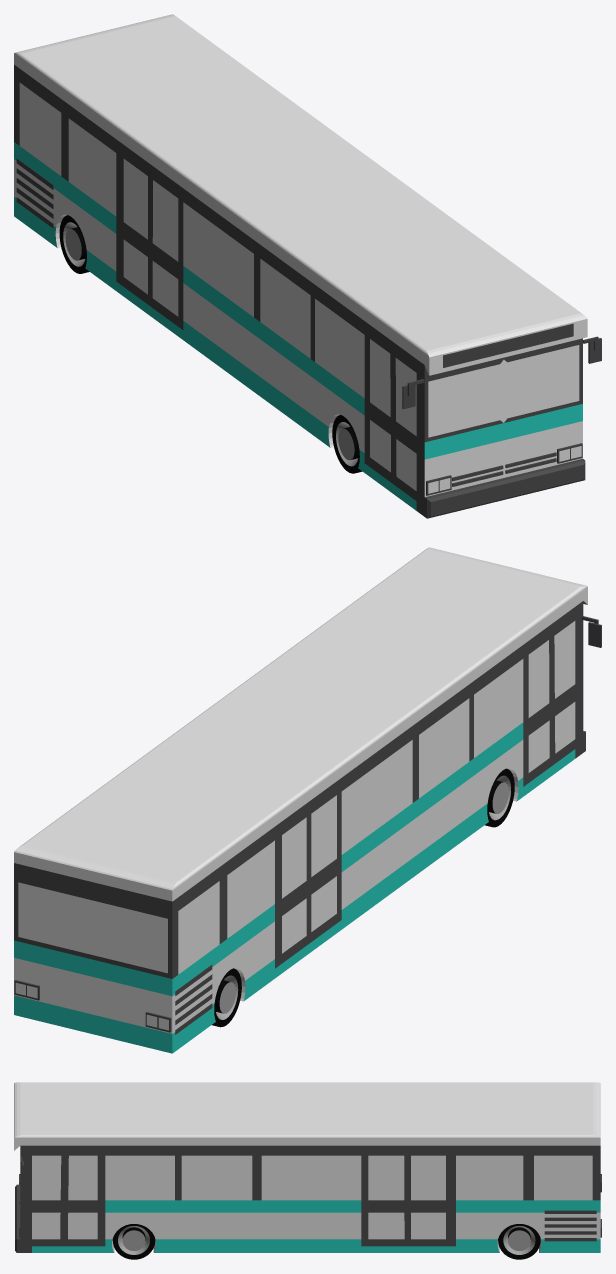
Rendered from NpcCar6_Bus.fbx.
3 renders of one model, top to bottom at view 1: azimuth 30°, elevation 25°; view 2: azimuth 150°, elevation 25°; view 3: azimuth 270°, elevation 25°, orthographic. The views are drawn at different scales.
Visible parts, largest first — view 1: Bus; view 2: Bus; view 3: Bus.
Part boxes in pixels (x1,y1,x2,y2): Bus: (14,14,601,518); Bus: (14,547,601,1053); Bus: (14,1082,601,1259).
Size of the model in its own units: 499 by 432 by 1812.
